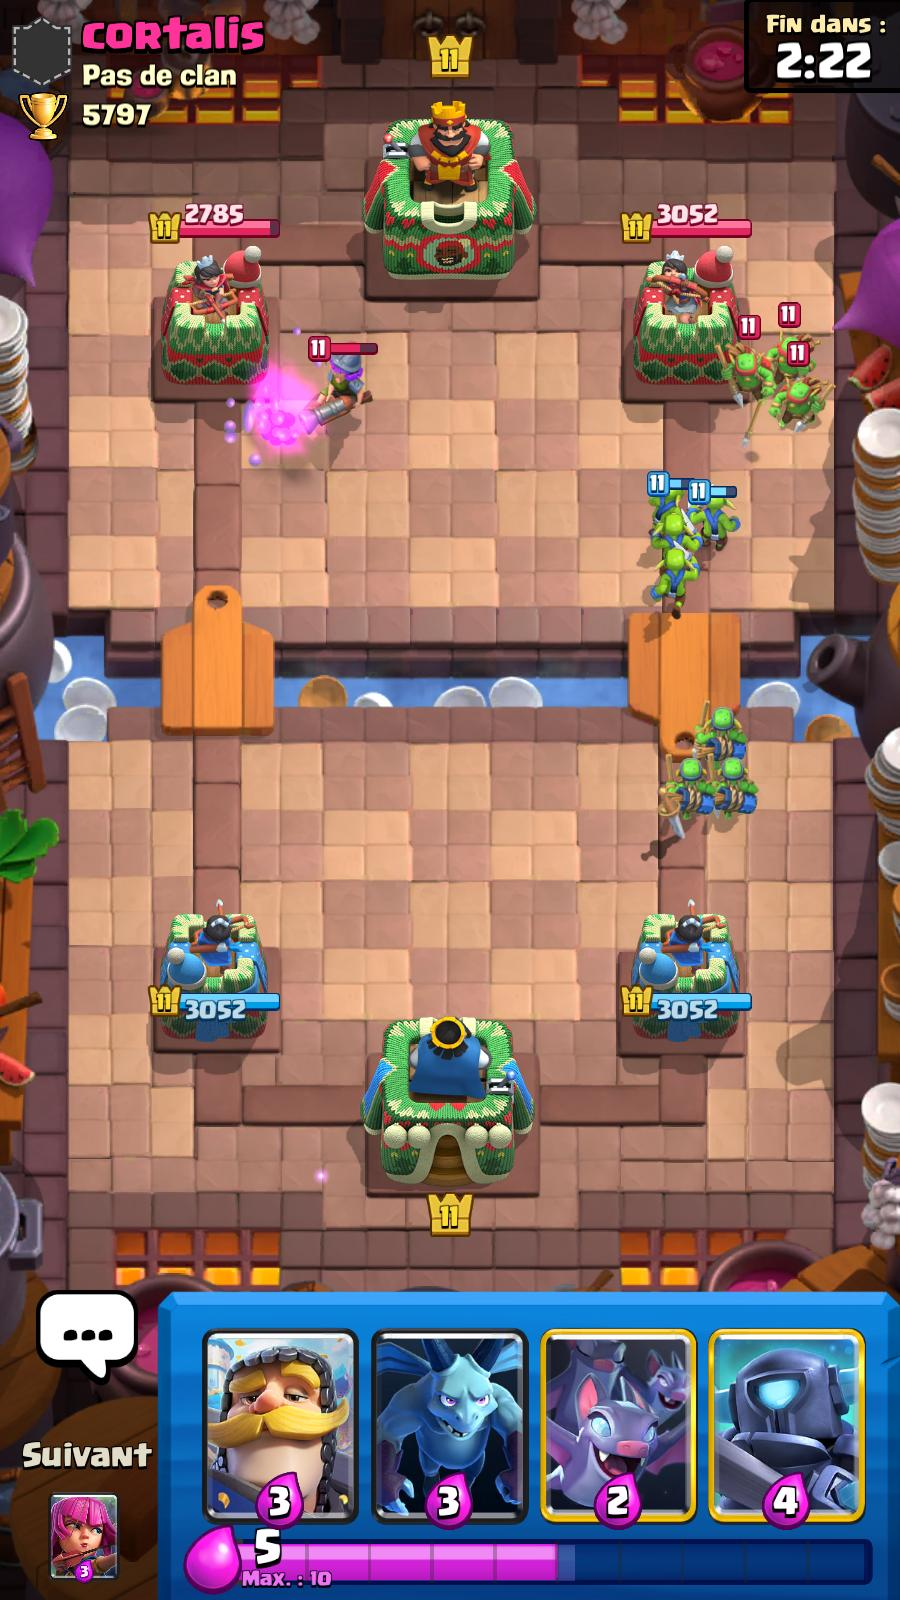gobelin: (645, 542, 711, 624), (687, 479, 749, 557), (645, 469, 699, 548)
gobelin_lances: (771, 337, 834, 433), (654, 748, 730, 826), (722, 310, 774, 416), (708, 747, 764, 832), (696, 701, 756, 771), (771, 295, 816, 387)
mousquetaire: (305, 333, 381, 432)
